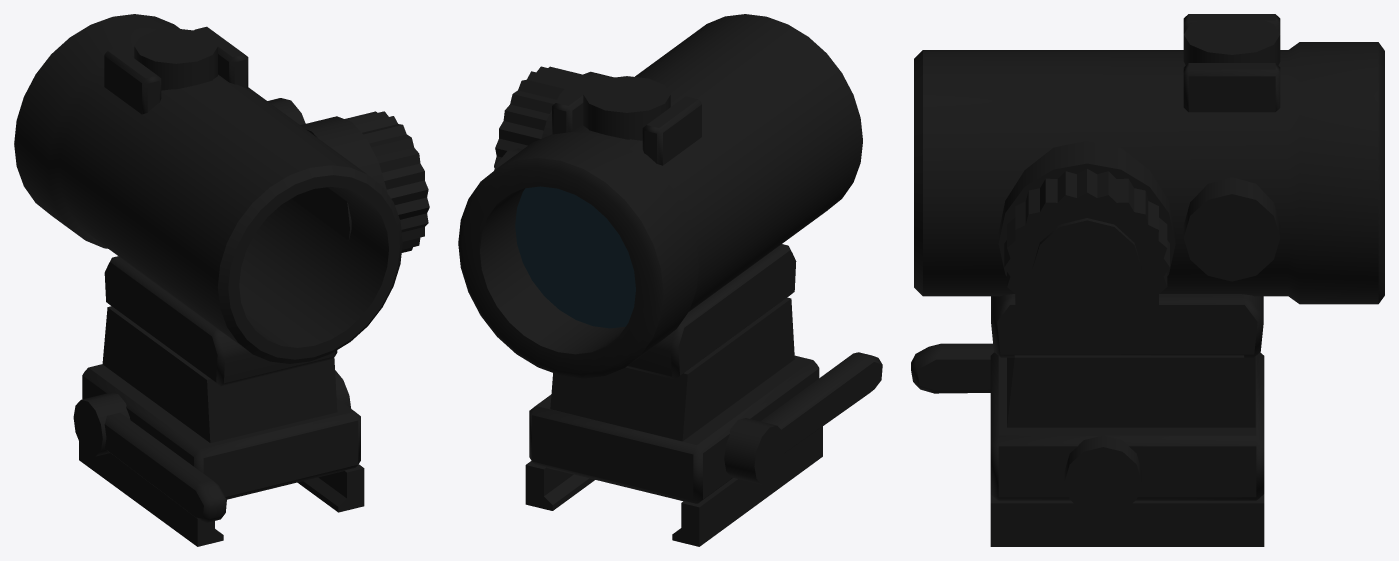
Rendered from rds.glb.
The picture shows the model from 3 angles, left to right: view 1: azimuth 30°, elevation 25°; view 2: azimuth 150°, elevation 25°; view 3: azimuth 270°, elevation 25°; orthographic projection. The views are drawn at different scales.
Visible parts, largest first — view 1: body; view 2: body; view 3: body.
Boxes of the visible parts, x1,y1,x2,y2 form: body: (14, 14, 429, 546); body: (458, 14, 882, 546); body: (911, 14, 1384, 546).
Size of the model in its own units: 0.0449 by 0.0638 by 0.0589.
